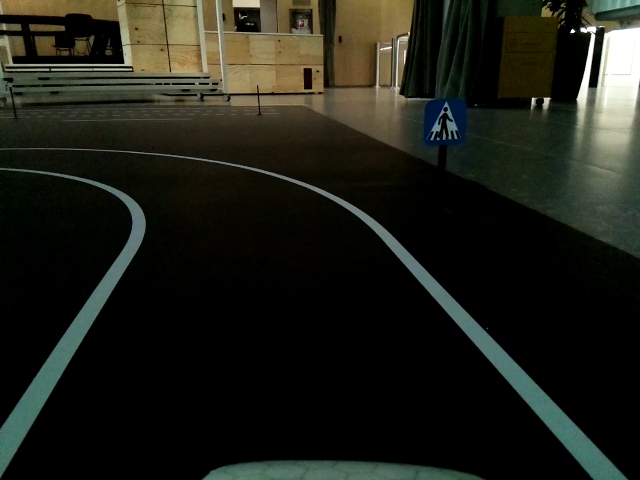pedestrians: (425, 100, 465, 144)
